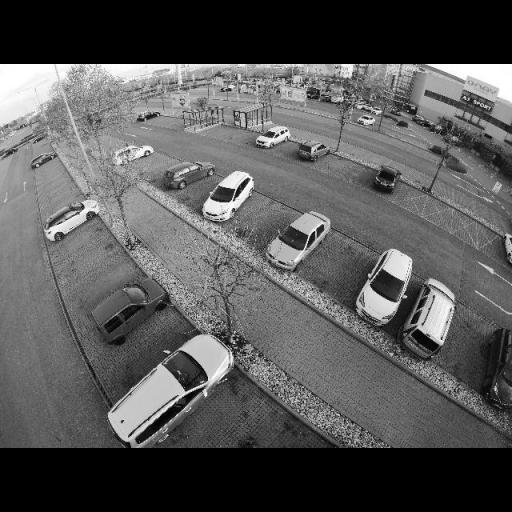busy: (106, 328, 241, 446), (356, 246, 422, 325), (404, 278, 468, 359), (95, 280, 164, 342), (268, 210, 329, 268), (201, 169, 257, 220), (485, 320, 512, 413), (42, 202, 98, 238), (160, 162, 214, 190), (253, 126, 293, 149), (370, 164, 402, 192), (112, 145, 152, 165), (296, 140, 332, 162), (30, 154, 56, 168), (355, 115, 376, 127), (136, 110, 160, 120)
free: (184, 401, 266, 447), (448, 311, 490, 388), (239, 194, 279, 236), (87, 266, 129, 292), (316, 250, 358, 276), (71, 245, 105, 269), (37, 165, 62, 182), (46, 180, 66, 198), (47, 195, 73, 208), (138, 160, 164, 172), (326, 160, 348, 170), (352, 169, 370, 180), (280, 144, 298, 154)
